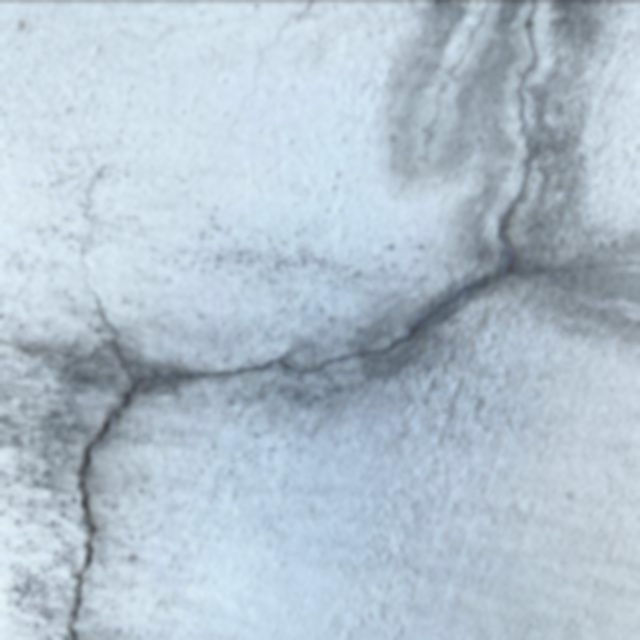SurfaceCrack: (3, 3, 640, 453)
